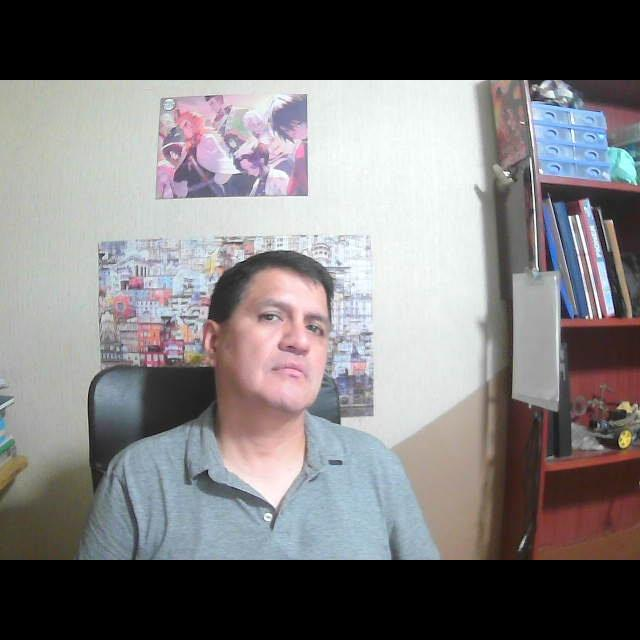cesar: (188, 242, 344, 438)
